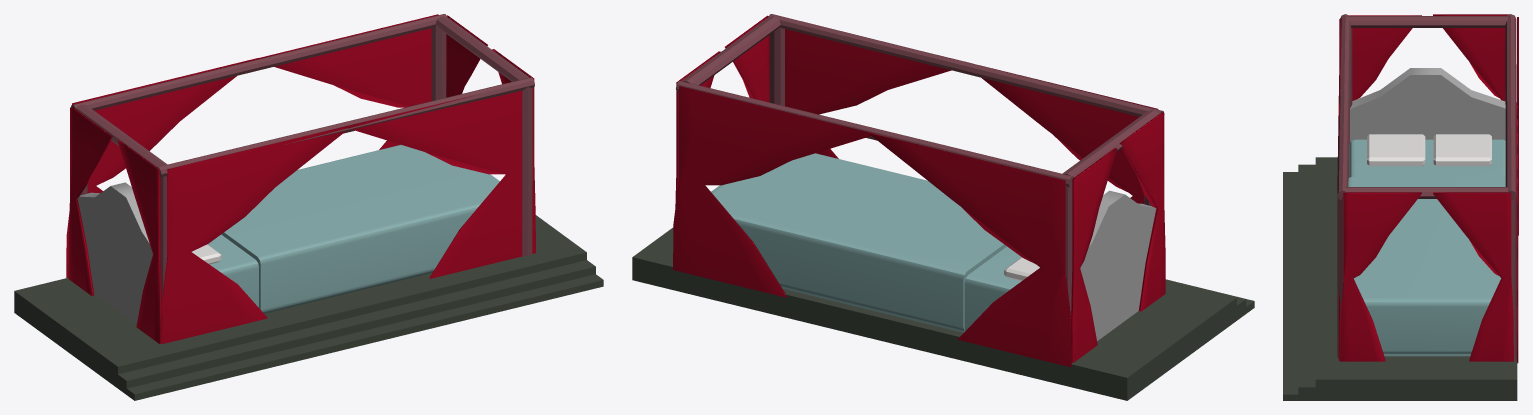
The model's file is Bed.fbx.
3 views of the same model, side by side, from view 1: azimuth 30°, elevation 25°; view 2: azimuth 150°, elevation 25°; view 3: azimuth 270°, elevation 25° (orthographic). The views are drawn at different scales.
Parts seen in each view (by area): view 1: polySurface122; view 2: polySurface122; view 3: polySurface122.
Boxes of the visible parts, x1,y1,x2,y2 form: polySurface122: (14, 14, 603, 400); polySurface122: (632, 14, 1254, 400); polySurface122: (1283, 14, 1518, 400).
Size of the model in its own units: 9.7 by 3.88 by 4.35.
